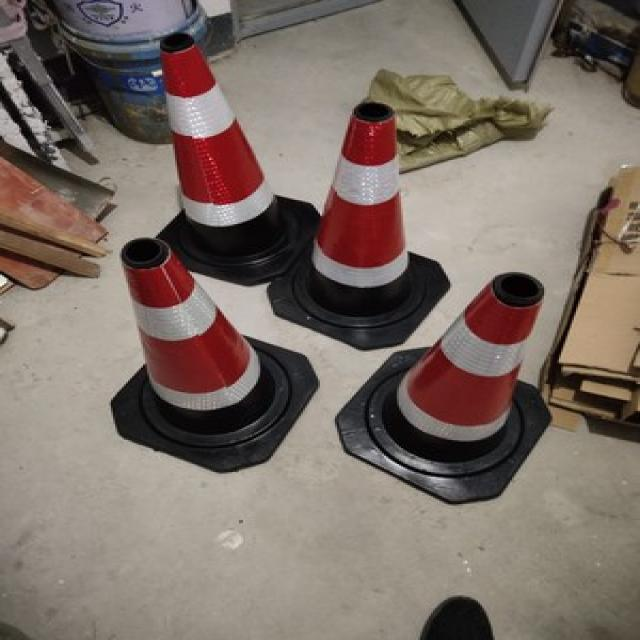reflective_cone: (328, 269, 552, 502), (107, 237, 318, 472), (260, 99, 448, 349), (147, 32, 318, 283)
